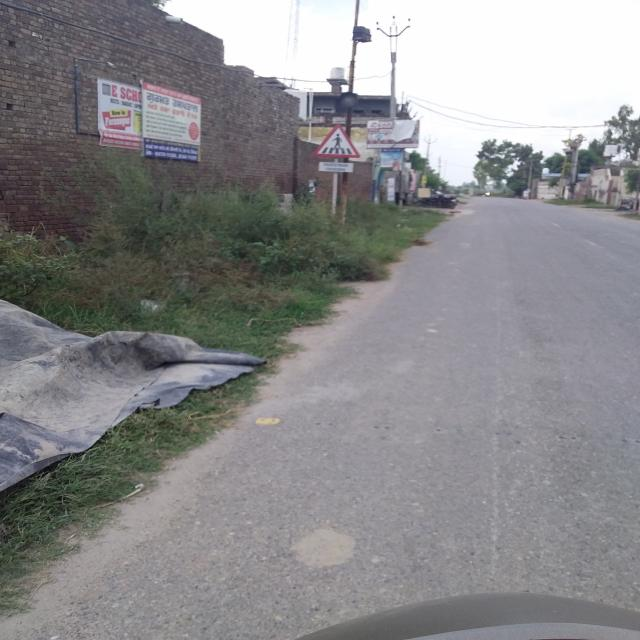PEDESTRIAN_CROSSING: (312, 124, 361, 158)
